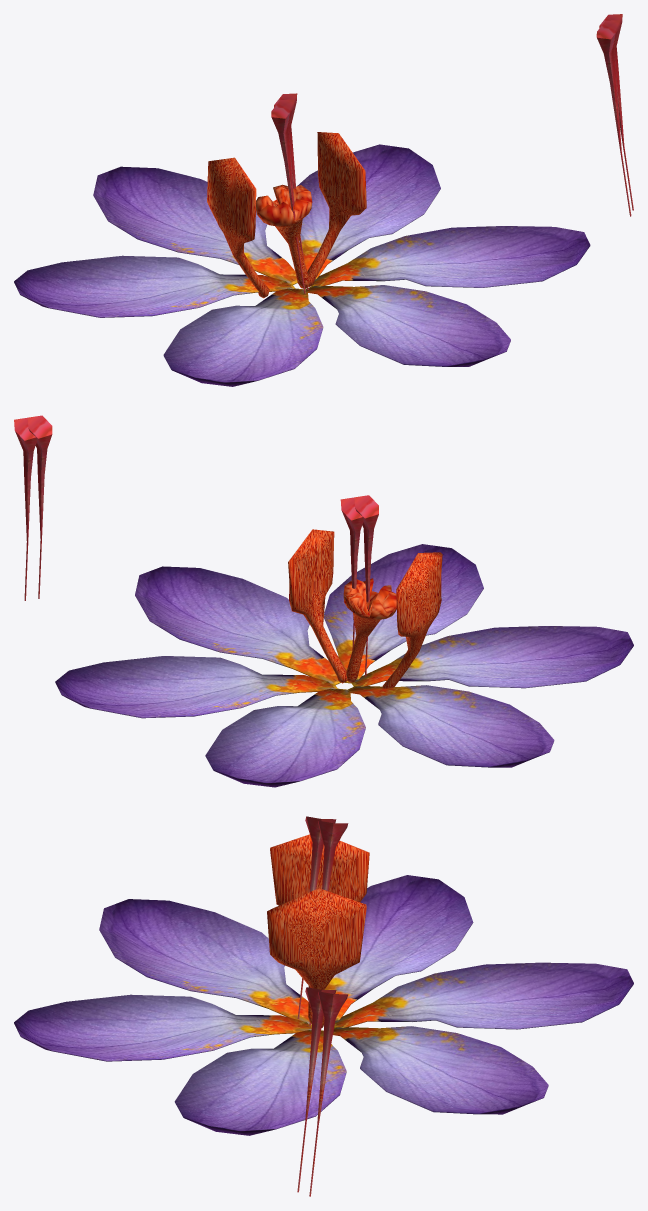
File: xihonghua.FBX
3 views of the same model, one above another, from view 1: azimuth 30°, elevation 25°; view 2: azimuth 150°, elevation 25°; view 3: azimuth 270°, elevation 25° (orthographic). The views are drawn at different scales.
Parts seen in each view (by area): view 1: Line007, Line004, Line006, Line005, Line003, Line002, Cylinder002, Cylinder003, Cylinder001, Line010, Line009, Line011; view 2: Line007, Line005, Line002, Line004, Line003, Line006, Cylinder002, Cylinder003, Cylinder001, Line010, Line009, Line011 (+1 smaller); view 3: Line003, Line005, Line006, Line002, Line007, Line004, Cylinder002, Cylinder003, Line011, Line010, Line008, Line009.
Part boxes in pixels (x1,y1,x2,y2): Line007: [311, 226, 590, 287]; Line004: [14, 255, 295, 317]; Line006: [305, 285, 510, 366]; Line005: [163, 288, 323, 386]; Line003: [93, 166, 297, 284]; Line002: [297, 144, 440, 279]; Cylinder002: [307, 132, 366, 286]; Cylinder003: [207, 157, 269, 298]; Cylinder001: [256, 184, 312, 288]; Line010: [596, 20, 631, 216]; Line009: [271, 99, 305, 293]; Line011: [599, 14, 633, 210]; Line007: [135, 566, 340, 685]; Line005: [351, 626, 633, 688]; Line002: [55, 656, 337, 718]; Line004: [347, 685, 554, 767]; Line003: [205, 688, 365, 787]; Line006: [324, 544, 483, 683]; Cylinder002: [288, 529, 346, 683]; Cylinder003: [382, 552, 442, 688]; Cylinder001: [343, 578, 396, 682]; Line010: [27, 415, 52, 598]; Line009: [354, 495, 378, 676]; Line011: [14, 417, 37, 600]; Line003: [334, 962, 633, 1029]; Line005: [99, 899, 311, 1024]; Line006: [14, 994, 311, 1061]; Line002: [333, 1026, 548, 1114]; Line007: [174, 1030, 346, 1135]; Line004: [324, 875, 473, 1020]; Cylinder002: [267, 888, 366, 1027]; Cylinder003: [270, 834, 369, 905]; Line011: [309, 991, 347, 1196]; Line010: [297, 987, 336, 1192]; Line008: [309, 820, 348, 1025]; Line009: [297, 816, 336, 1019].
Size of the model in its own units: 0.5863 by 0.187 by 0.5147.
Materials: 1 (1 with a texture image).
